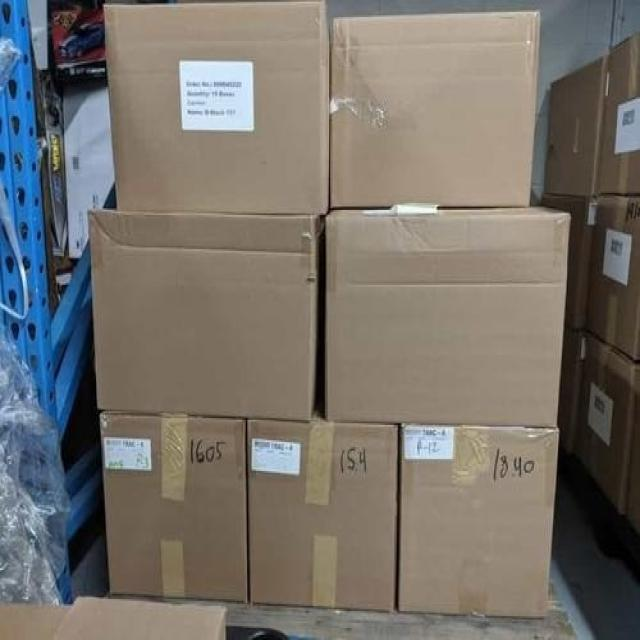box: (327, 205, 569, 428), (104, 0, 332, 214), (88, 212, 319, 418), (330, 12, 539, 205), (399, 424, 558, 617), (249, 411, 399, 611), (98, 414, 246, 604), (574, 335, 638, 513), (584, 196, 639, 364), (0, 598, 227, 638), (544, 56, 605, 197), (539, 192, 597, 331), (596, 29, 639, 195), (621, 365, 639, 534), (558, 328, 584, 441)
